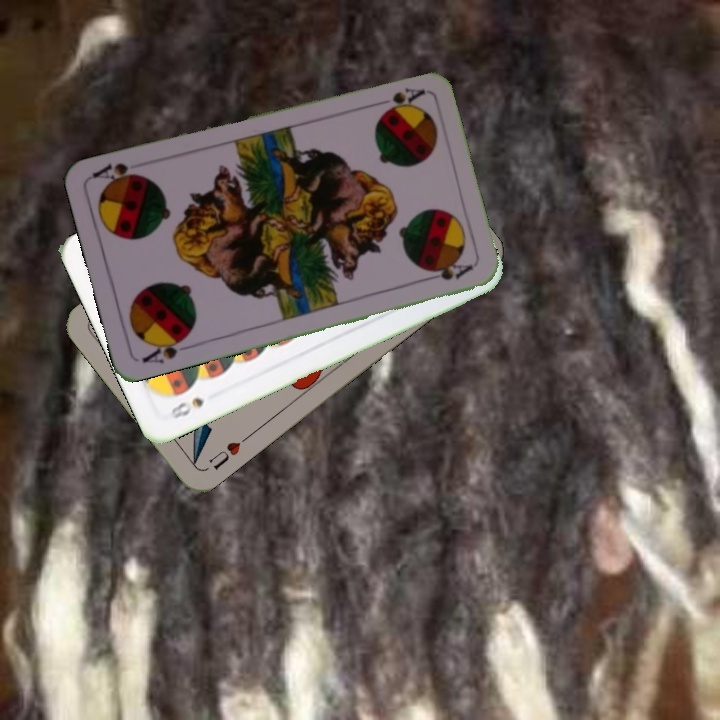HU: (204, 431, 253, 473)
S8: (166, 393, 207, 422)
SA: (138, 330, 195, 366), (369, 83, 428, 114)
